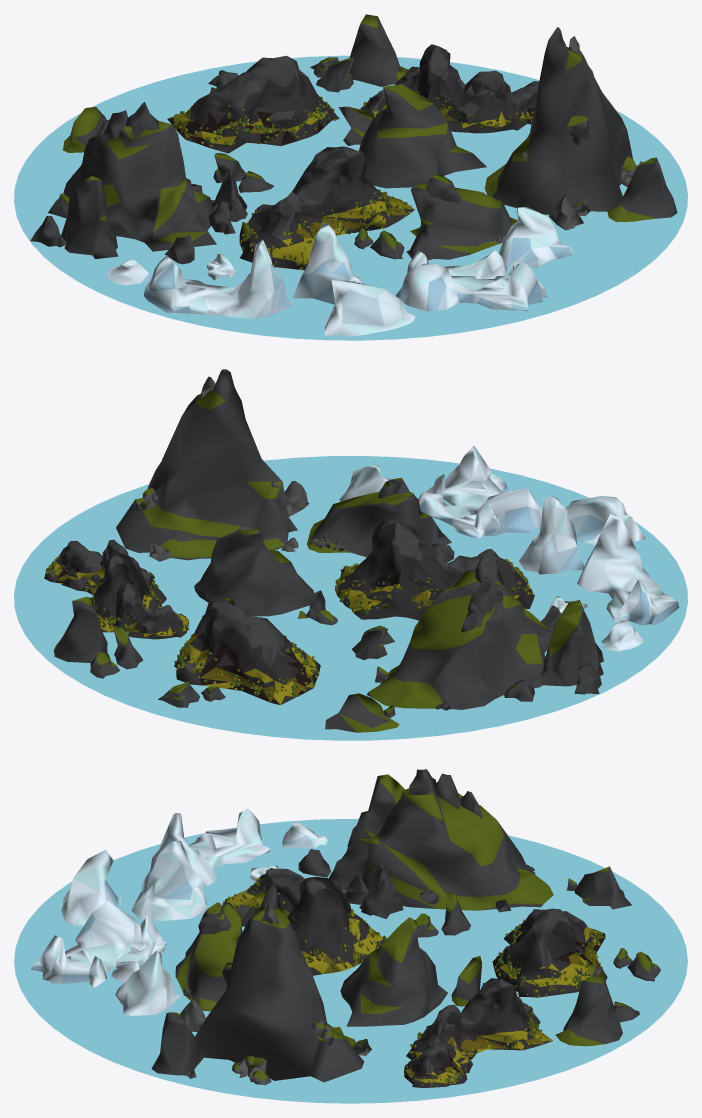
File: terrain.gltf
3 renders of one model, top to bottom at view 1: azimuth 30°, elevation 25°; view 2: azimuth 150°, elevation 25°; view 3: azimuth 270°, elevation 25°, orthographic.
Parts seen in each view (by area): view 1: Circle.001_Colour Palette_0.001; view 2: Circle.001_Colour Palette_0.001; view 3: Circle.001_Colour Palette_0.001.
Boxes of the visible parts, <box> form: Circle.001_Colour Palette_0.001: <box>14,14,687,340</box>; Circle.001_Colour Palette_0.001: <box>14,369,687,740</box>; Circle.001_Colour Palette_0.001: <box>14,769,687,1103</box>.
Size of the model in its own units: 84.24 by 22.18 by 84.24.
Materials: 1 (1 with a texture image).
